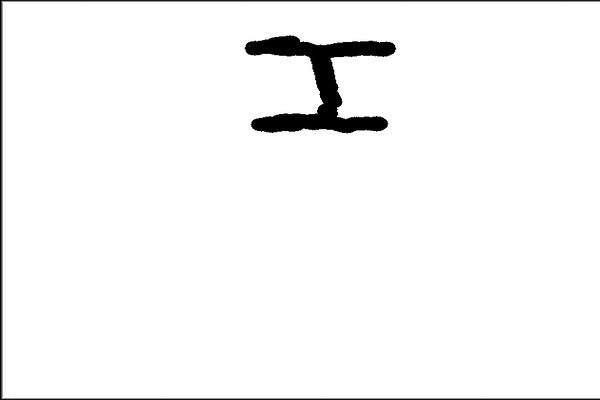i: (234, 27, 406, 149)
